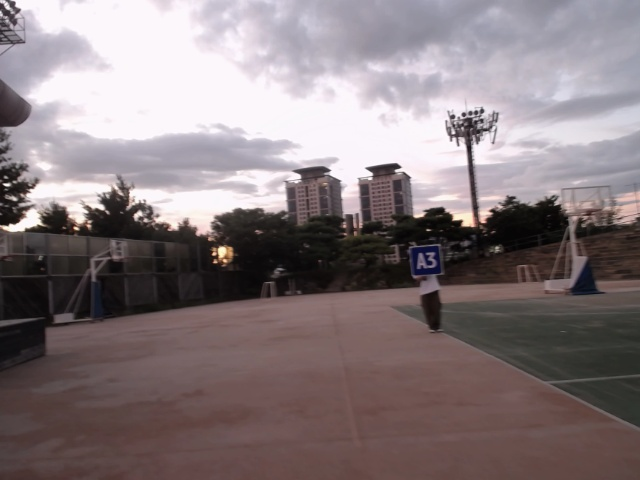delivery_a3: (408, 246, 443, 277)
